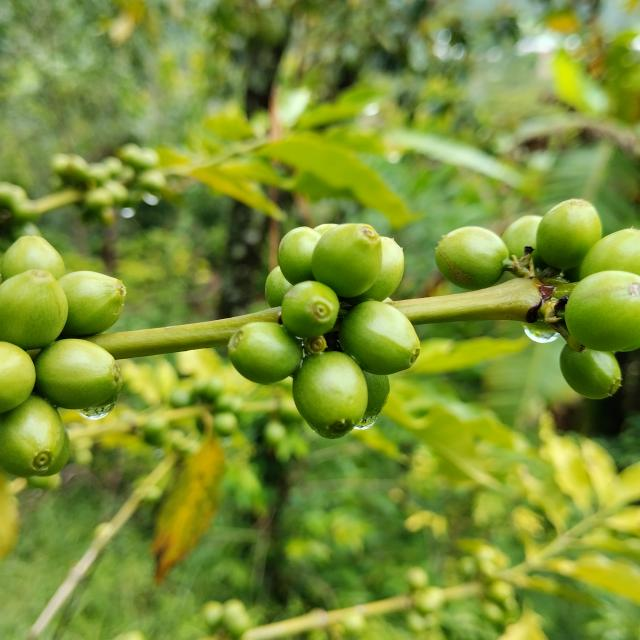green: (292, 352, 368, 439), (33, 339, 121, 410), (339, 301, 421, 375), (566, 270, 640, 351), (0, 395, 70, 478), (0, 269, 67, 351), (311, 223, 382, 297), (228, 322, 303, 385), (537, 198, 603, 269), (436, 226, 509, 290), (57, 271, 125, 337), (343, 236, 404, 305), (561, 345, 623, 400), (281, 281, 340, 338), (580, 228, 640, 280), (0, 235, 65, 280), (277, 226, 322, 285), (0, 342, 35, 414), (502, 215, 547, 268), (363, 371, 390, 417), (265, 266, 293, 307), (314, 223, 338, 235)
